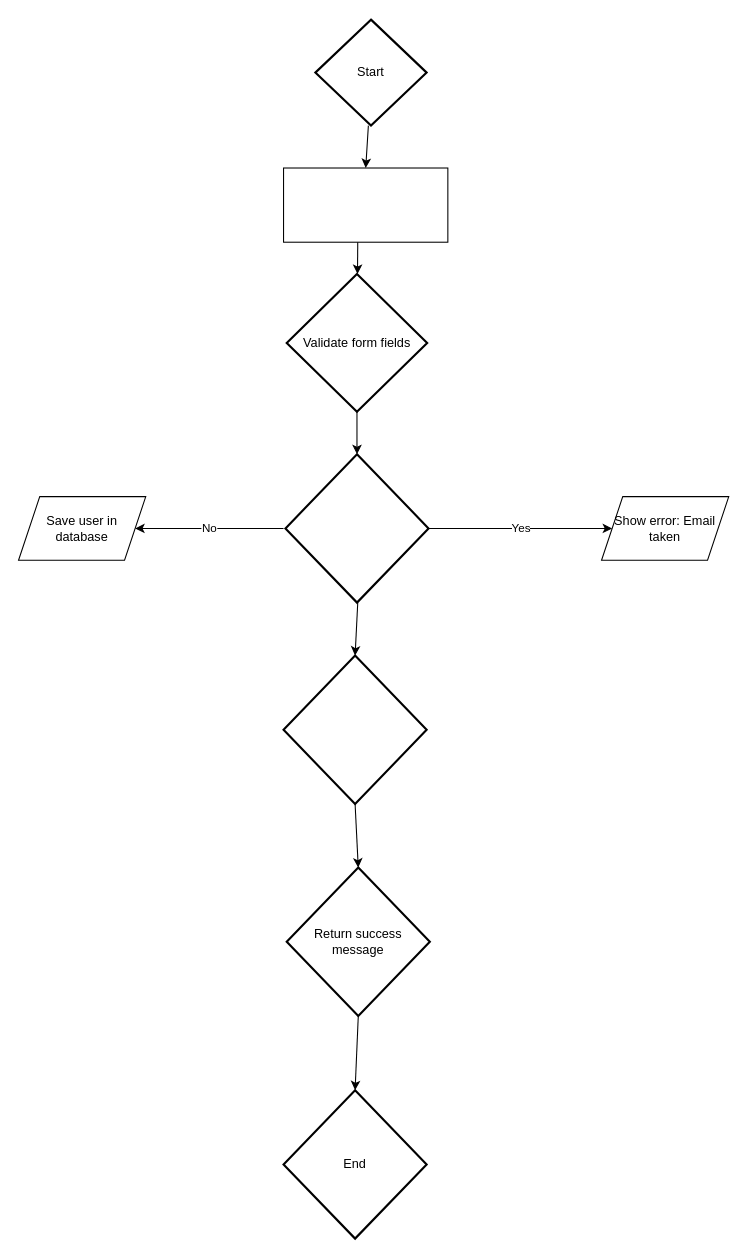
Image size: 747x1257. Some labels were removed from this diagram. The centre of each missing label's shape, as x and y in pixels:
Generate JWT token: pixel 354 729
Is email already used?: pixel 356 528
User enters registration info: pixel 365 204
